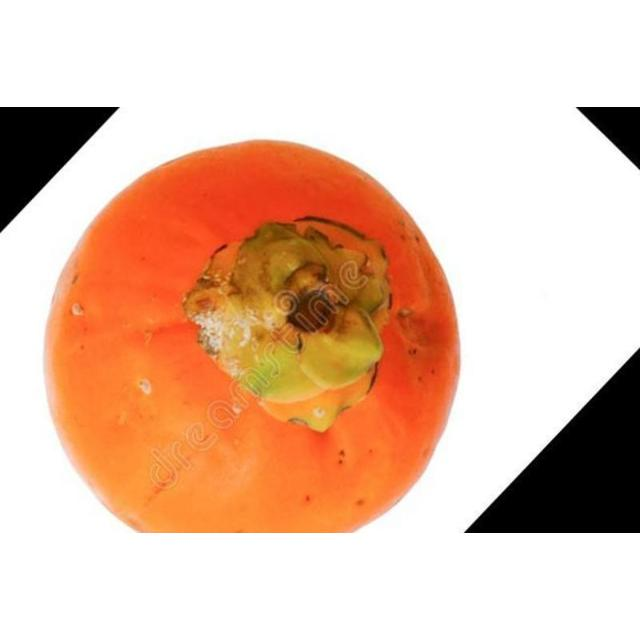good: (42, 140, 462, 533)
